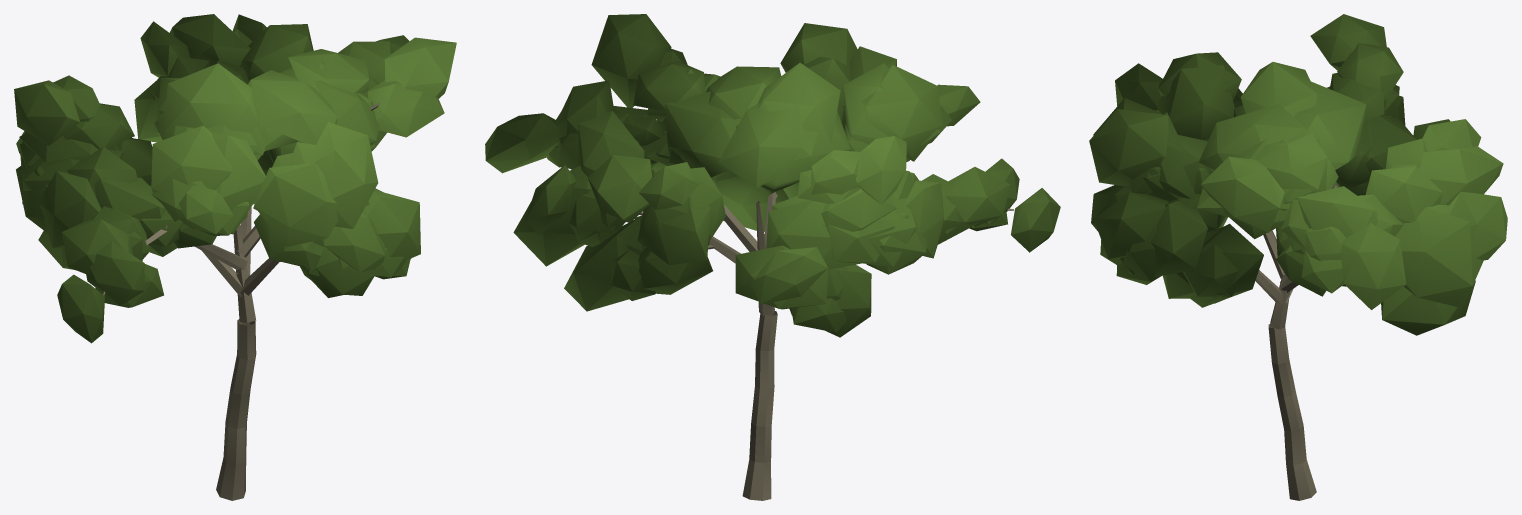
Rendered from tree_plane.glb.
3 views of the same model, side by side, from view 1: azimuth 30°, elevation 25°; view 2: azimuth 150°, elevation 25°; view 3: azimuth 270°, elevation 25° (orthographic). The views are drawn at different scales.
Visible parts, largest first — view 1: tree_plane; view 2: tree_plane; view 3: tree_plane.
Boxes of the visible parts, x1,y1,x2,y2 form: tree_plane: (14,14,456,500); tree_plane: (485,14,1060,500); tree_plane: (1089,14,1507,500).
Size of the model in its own units: 9.92 by 8.86 by 7.97.
